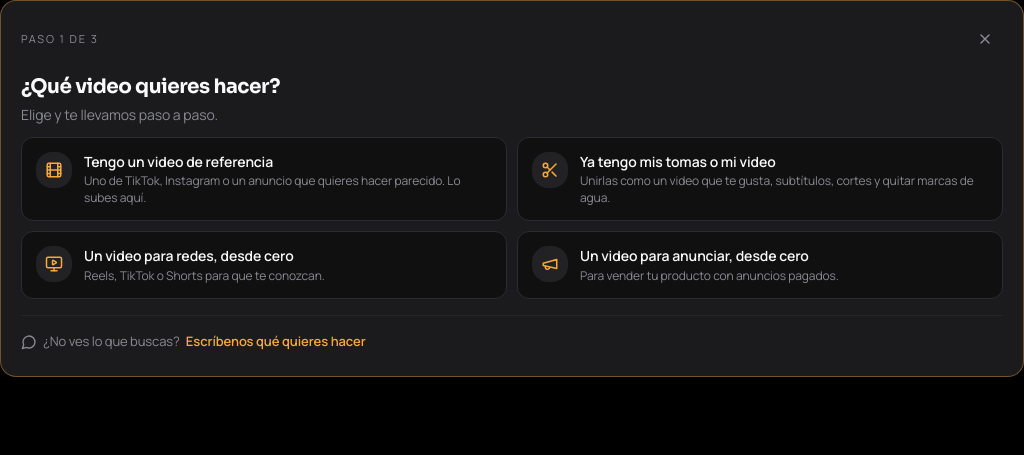
Test: Guía «¿Qué video quieres hacer?» › caso Cindy: video de ejemplo + su texto → «uno parecido» va a Reel Studio con los dos
The width and height of the screenshot is (1024, 455).
Later steps or results of the test are not shown.
Click the button "Un video para redes": click(264, 265) [21,231,507,299]
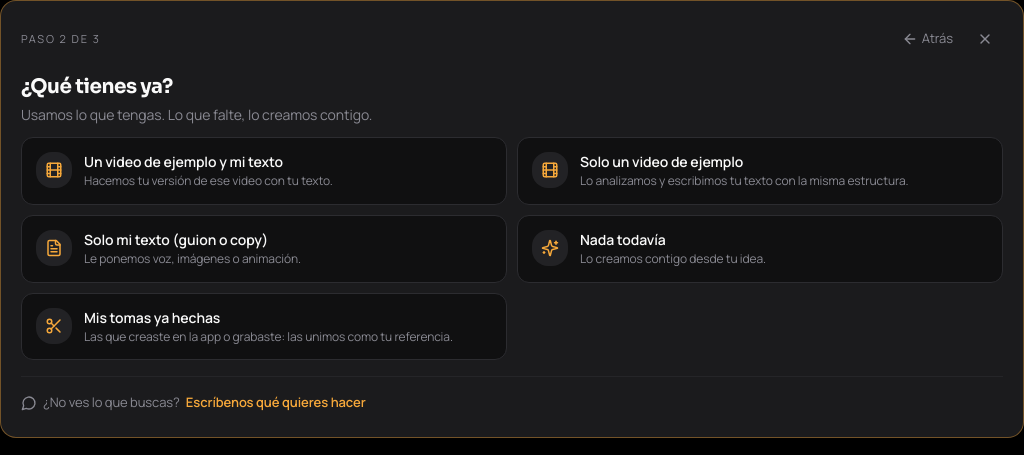
Expected: the heading "¿Qué tienes ya?" is shown, [21,74,173,99]
Click the button "Un video de ejemplo y mi texto": click(264, 171) [21,137,507,205]
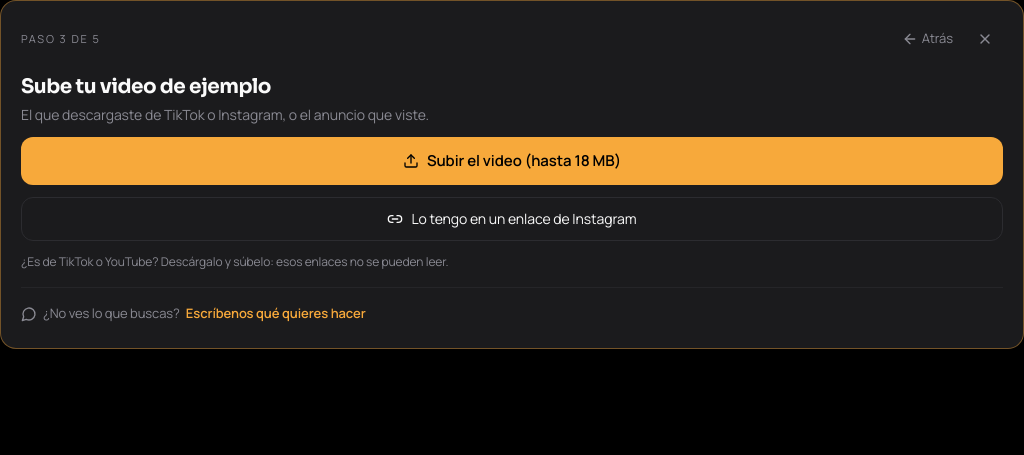
Expected: the text "Paso 3 de 5" is shown, [21,31,101,47]
